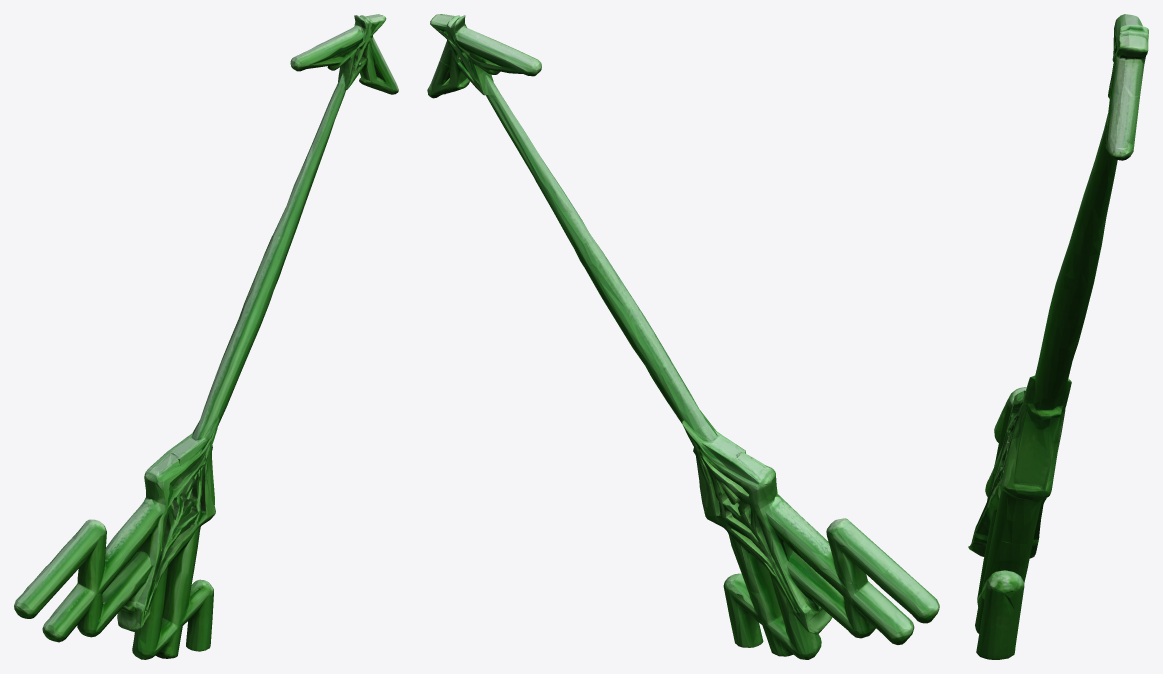
File: lilly-pitchfork.glb
3 renders of one model, left to right at view 1: azimuth 30°, elevation 25°; view 2: azimuth 150°, elevation 25°; view 3: azimuth 270°, elevation 25°, orthographic. The views are drawn at different scales.
Parts seen in each view (by area): view 1: Pitchfork; view 2: Pitchfork; view 3: Pitchfork.
Part boxes in pixels (<box>): Pitchfork: <box>14,14,398,659</box>; Pitchfork: <box>427,14,939,659</box>; Pitchfork: <box>968,14,1148,659</box>.
Bounding box in the file's own units: 0.7889 × 0.9773 × 0.2071.
1 material, 1 textured.
